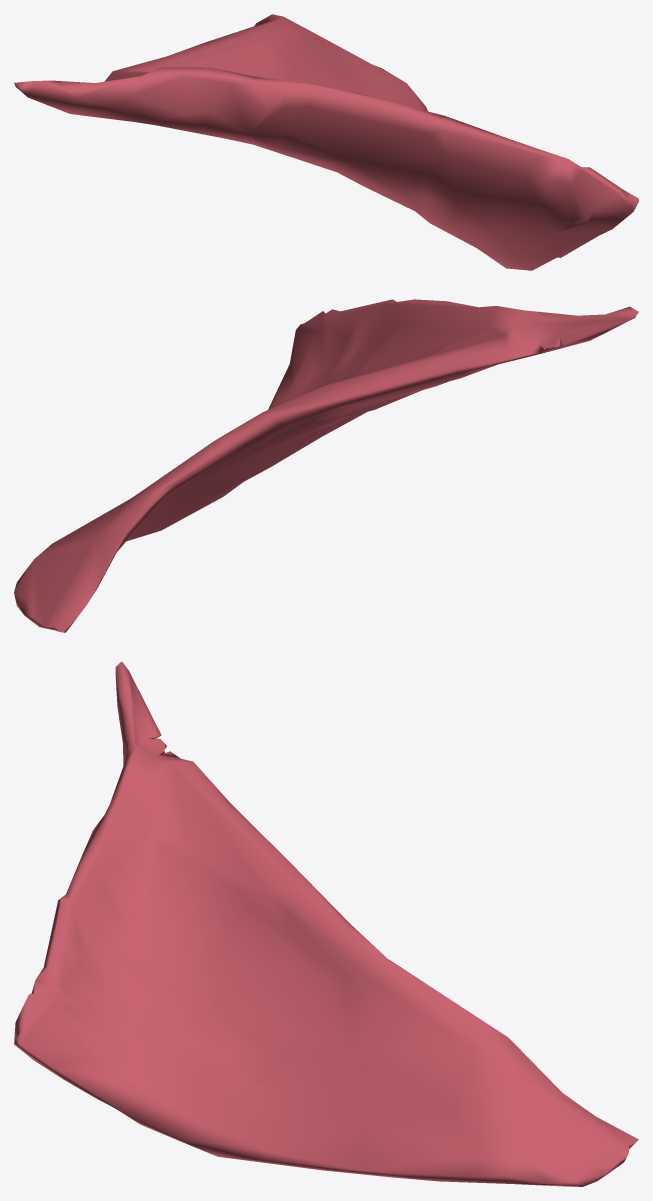
The picture shows the model from 3 angles, top to bottom: view 1: azimuth 30°, elevation 25°; view 2: azimuth 150°, elevation 25°; view 3: azimuth 270°, elevation 25°; orthographic projection. The views are drawn at different scales.
Parts seen in each view (by area): view 1: 右侧提上唇肌; view 2: 右侧提上唇肌; view 3: 右侧提上唇肌.
Part boxes in pixels (x1,y1,x2,y2): 右侧提上唇肌: (14,14,638,270); 右侧提上唇肌: (14,299,638,632); 右侧提上唇肌: (14,661,638,1186).
Bounding box in the file's own units: 0.0398 × 0.0219 × 0.0426.
